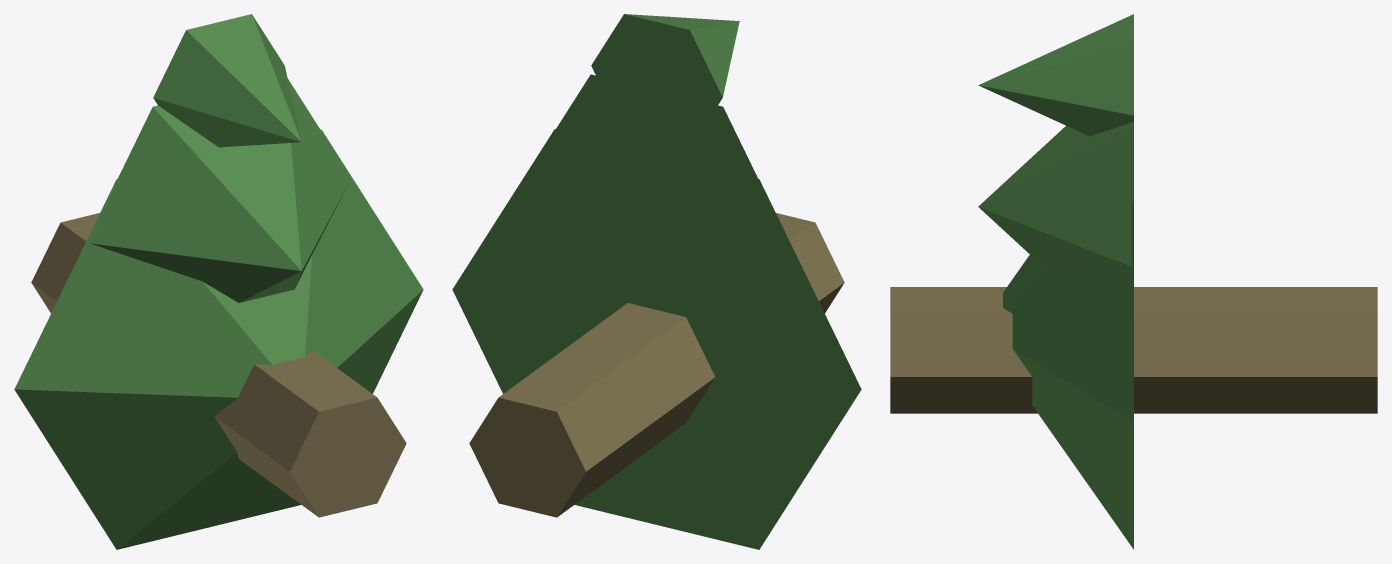
Rendered from tree_s1_01.glb.
3 renders of one model, left to right at view 1: azimuth 30°, elevation 25°; view 2: azimuth 150°, elevation 25°; view 3: azimuth 270°, elevation 25°, orthographic. The views are drawn at different scales.
Parts seen in each view (by area): view 1: geometry_0; view 2: geometry_0; view 3: geometry_0.
Boxes of the visible parts, x1,y1,x2,y2 form: geometry_0: (14, 14, 423, 549); geometry_0: (452, 14, 861, 549); geometry_0: (890, 14, 1377, 549).
Size of the model in its own units: 2.89 by 3.4 by 3.17.
